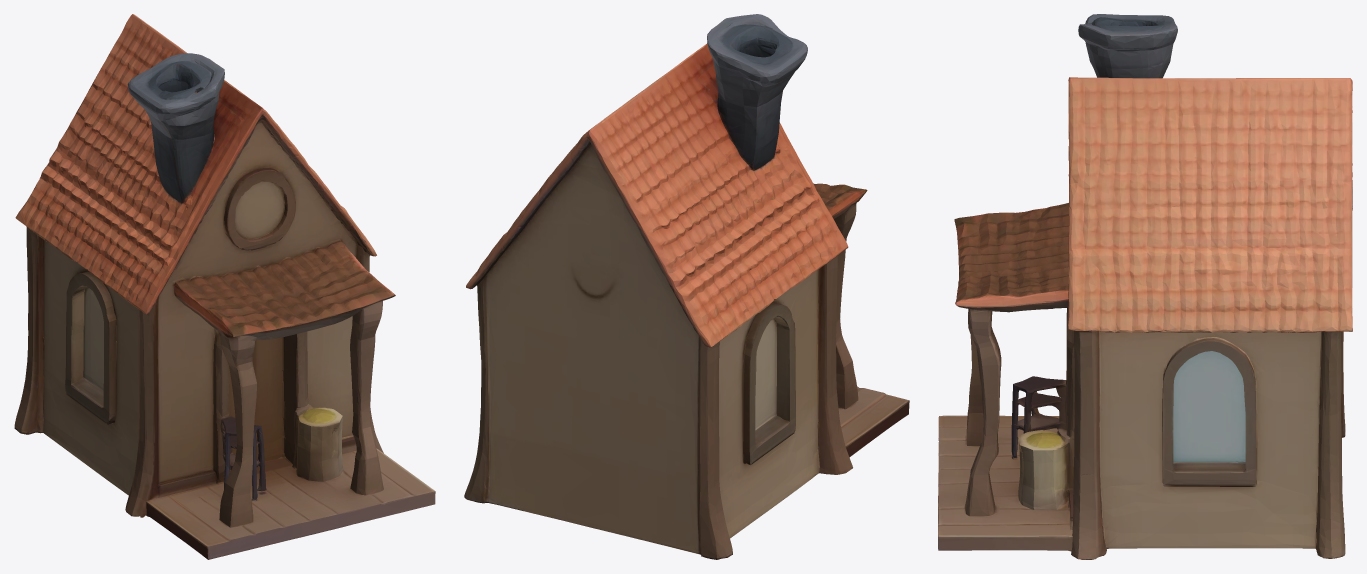
Rendered from partflow_t05.glb.
The picture shows the model from 3 angles, left to right: view 1: azimuth 30°, elevation 25°; view 2: azimuth 150°, elevation 25°; view 3: azimuth 270°, elevation 25°; orthographic projection. The views are drawn at different scales.
Parts seen in each view (by area): view 1: geometry_0; view 2: geometry_0; view 3: geometry_0.
Part boxes in pixels (<box>): geometry_0: <box>14,14,435,559</box>; geometry_0: <box>464,14,909,559</box>; geometry_0: <box>938,14,1352,559</box>.
Bounding box in the file's own units: 0.7265 × 1.13 × 0.9494.
Materials: 1 (1 with a texture image).
